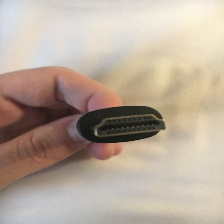hdmi_male: (68, 103, 170, 143), (68, 106, 170, 143)
